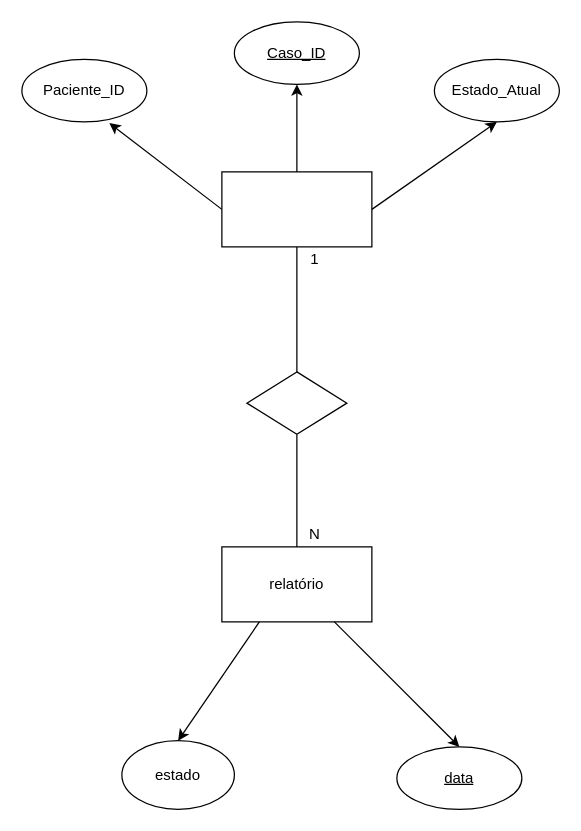
This 581x831 diagram has some shape labels left out. Each missing label, with the box of its shape:
Caso: (221, 171, 372, 247)
tem: (246, 371, 347, 434)
